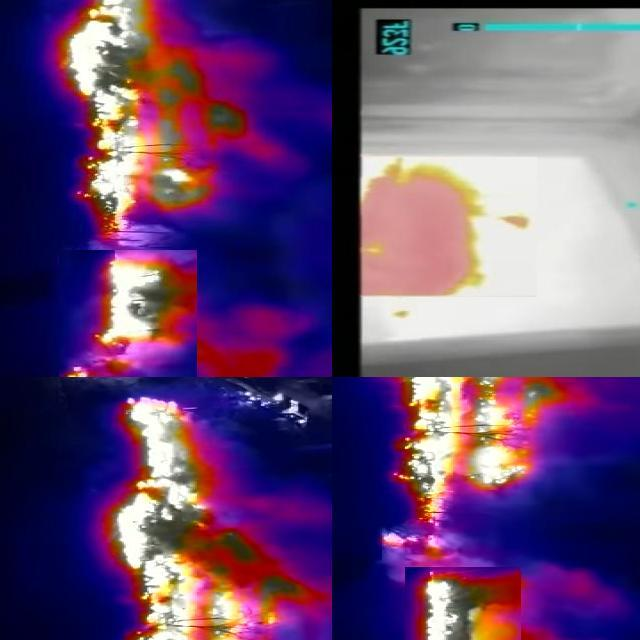fire: (101, 396, 311, 640), (53, 1, 247, 242), (378, 378, 569, 557), (355, 158, 537, 298), (59, 251, 197, 378), (405, 568, 521, 640)
